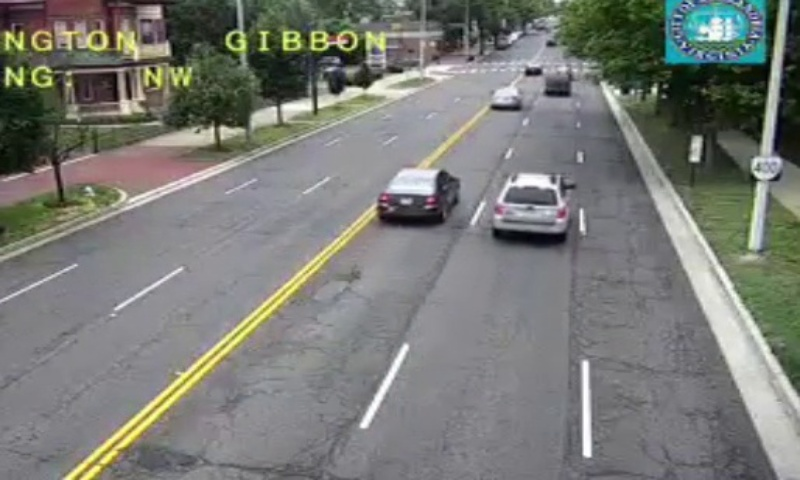car: (490, 172, 569, 237), (376, 168, 462, 216), (490, 87, 521, 108)
